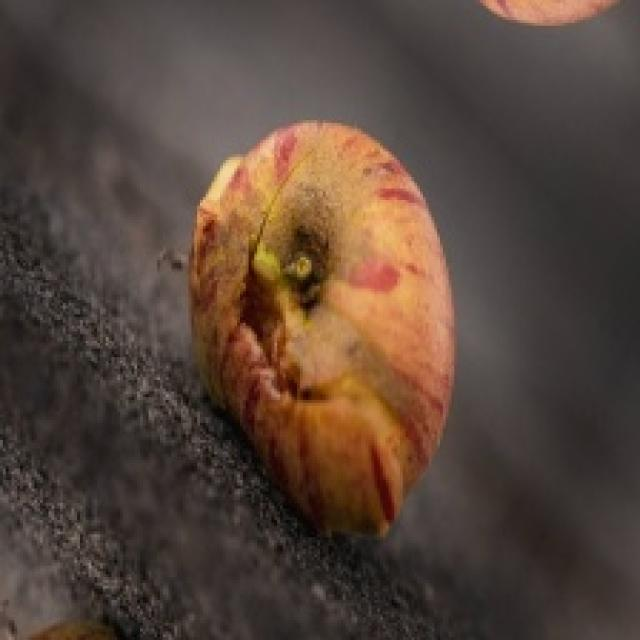rotten_apple: (196, 127, 454, 536)
